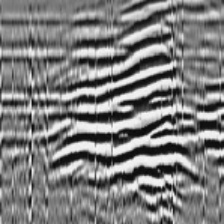cavities: (62, 5, 224, 211)
